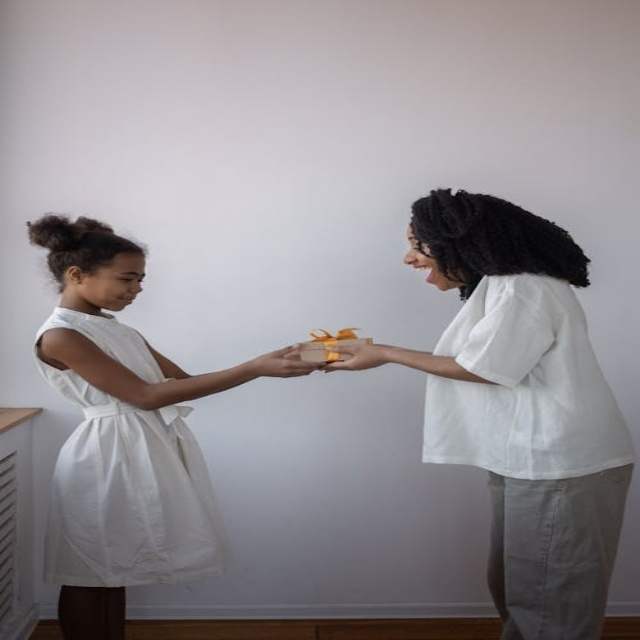Sin_gafas: (106, 268, 148, 285), (402, 231, 429, 256)
Sin_guantes: (321, 337, 394, 375), (257, 343, 336, 378)
Sin_mascara: (407, 261, 447, 290), (101, 290, 136, 311)
